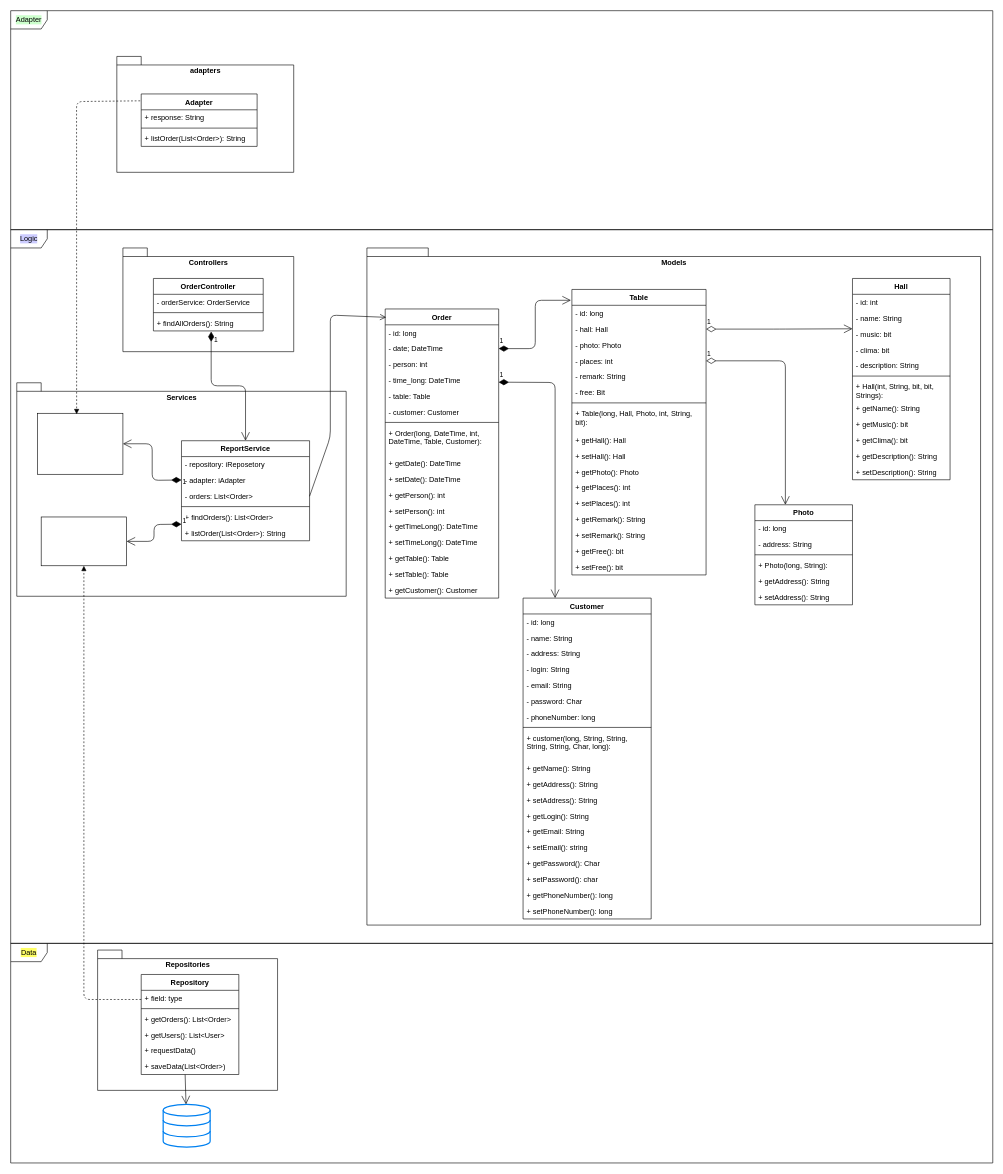
Image size: 1003x1174. Some labels were removed from this diagram. Each missing label, with the centre of its shape:
"<<Interface>> iAdapter + sendDataUser() + sendData() + recieveData()" belongs at (x=80, y=443).
"<<Interface>> iRepository + requestData() + saveData(List<Order>)" belongs at (x=84, y=541).
